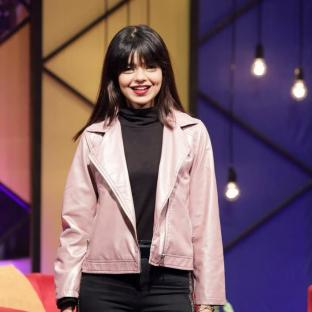Human: (54, 25, 225, 312)
